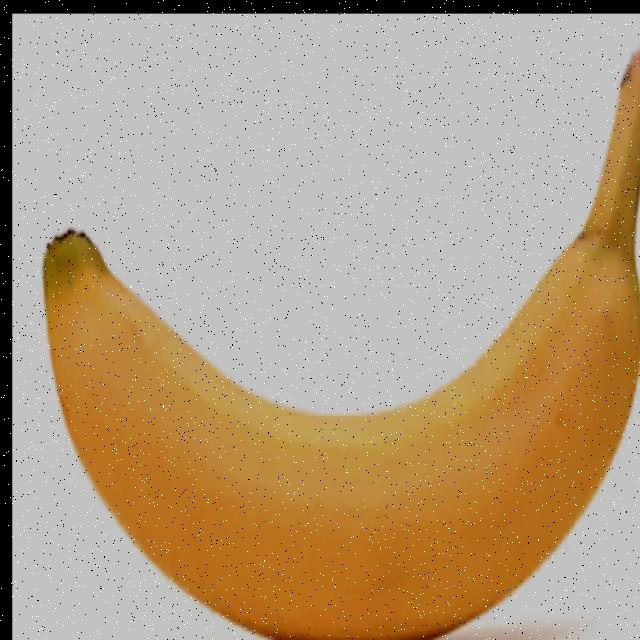Ripe: (35, 22, 640, 640)
